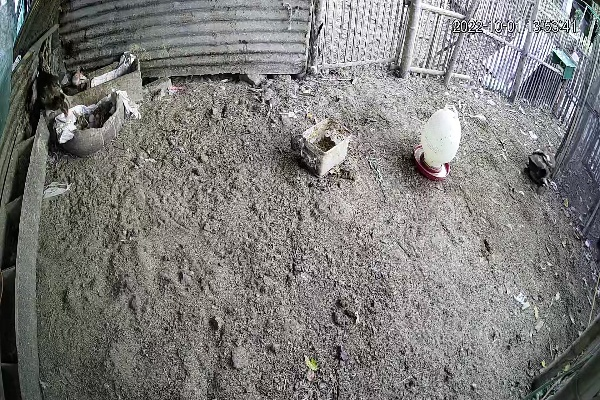Kawin: (521, 133, 565, 201)
